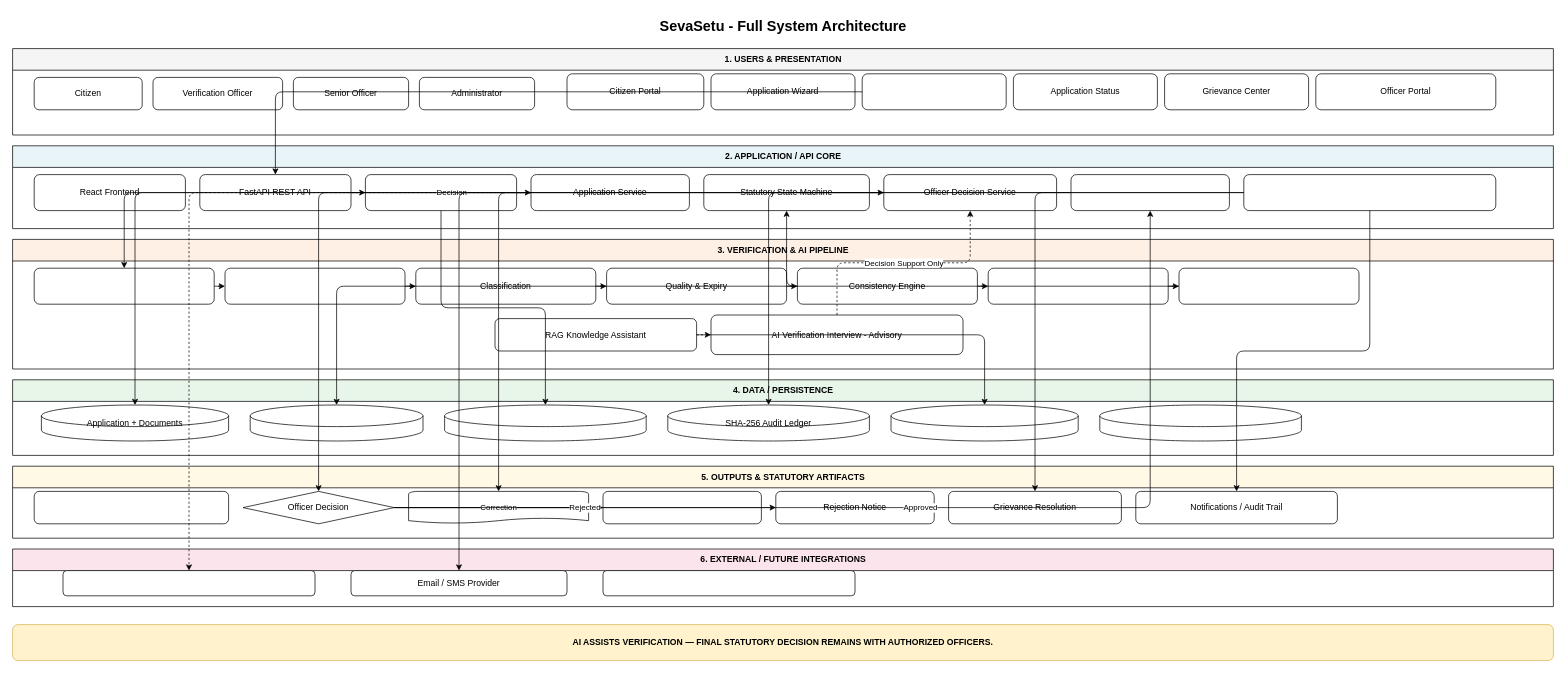
This 1566x673 diagram has some shape labels left out. The centre of each missing label's shape, as x and y in pixels:
"Auth & RBAC" goes at pixel 441 192.
"Certificate PDF + QR" goes at pixel 498 507.
"Certificate Service" goes at pixel 1149 192.
"Correction Notice" goes at pixel 681 507.
"Document Ingestion" goes at pixel 123 285.
"Document Upload" goes at pixel 933 91.
"Future Verification Services" goes at pixel 728 583.
"Government / Department APIs" goes at pixel 188 583.
"Grievance + Notification Services" goes at pixel 1369 192.
"Notifications / Feedback" goes at pixel 1200 422.
"OCR Extraction" goes at pixel 314 285.
"Officer Review" goes at pixel 1268 285.
"RAG Knowledge Base" goes at pixel 984 422.
"Readiness / Consistency Report" goes at pixel 131 507.
"Readiness Scoring" goes at pixel 1077 285.
"Users / RBAC / Grievances" goes at pixel 545 422.
"Verification Logs" goes at pixel 336 422.
